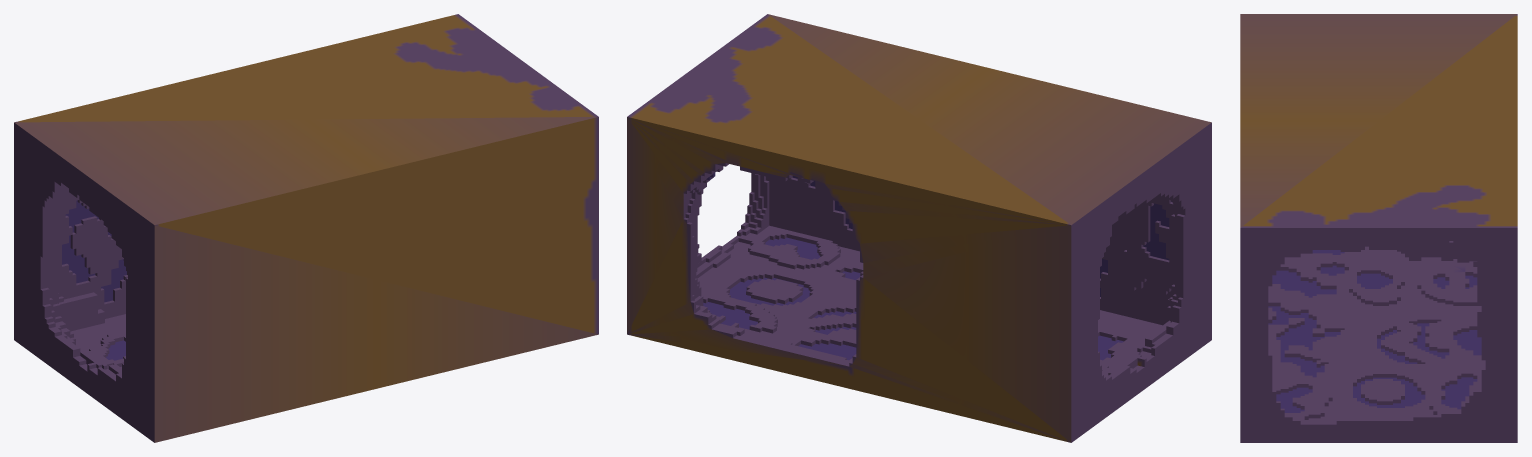
The model's file is Level3_template_corner_v2.dae.
The picture shows the model from 3 angles, left to right: view 1: azimuth 30°, elevation 25°; view 2: azimuth 150°, elevation 25°; view 3: azimuth 270°, elevation 25°; orthographic projection.
Visible parts, largest first — view 1: level3_template_corner_v2.level_3_template_corner_v2; view 2: level3_template_corner_v2.level_3_template_corner_v2; view 3: level3_template_corner_v2.level_3_template_corner_v2.
Boxes of the visible parts, <box> form: level3_template_corner_v2.level_3_template_corner_v2: <box>14,14,598,442</box>; level3_template_corner_v2.level_3_template_corner_v2: <box>627,14,1211,442</box>; level3_template_corner_v2.level_3_template_corner_v2: <box>1240,14,1517,442</box>.
Bounding box in the file's own units: 12.6 × 5.9 × 6.9.
Materials: 1 (1 with a texture image).
